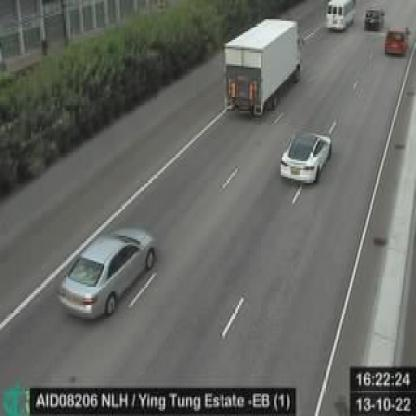Bus: (325, 0, 357, 30)
Car: (56, 226, 158, 322), (278, 131, 334, 186), (386, 26, 410, 57), (364, 6, 384, 30)
Truck: (223, 14, 306, 116)
